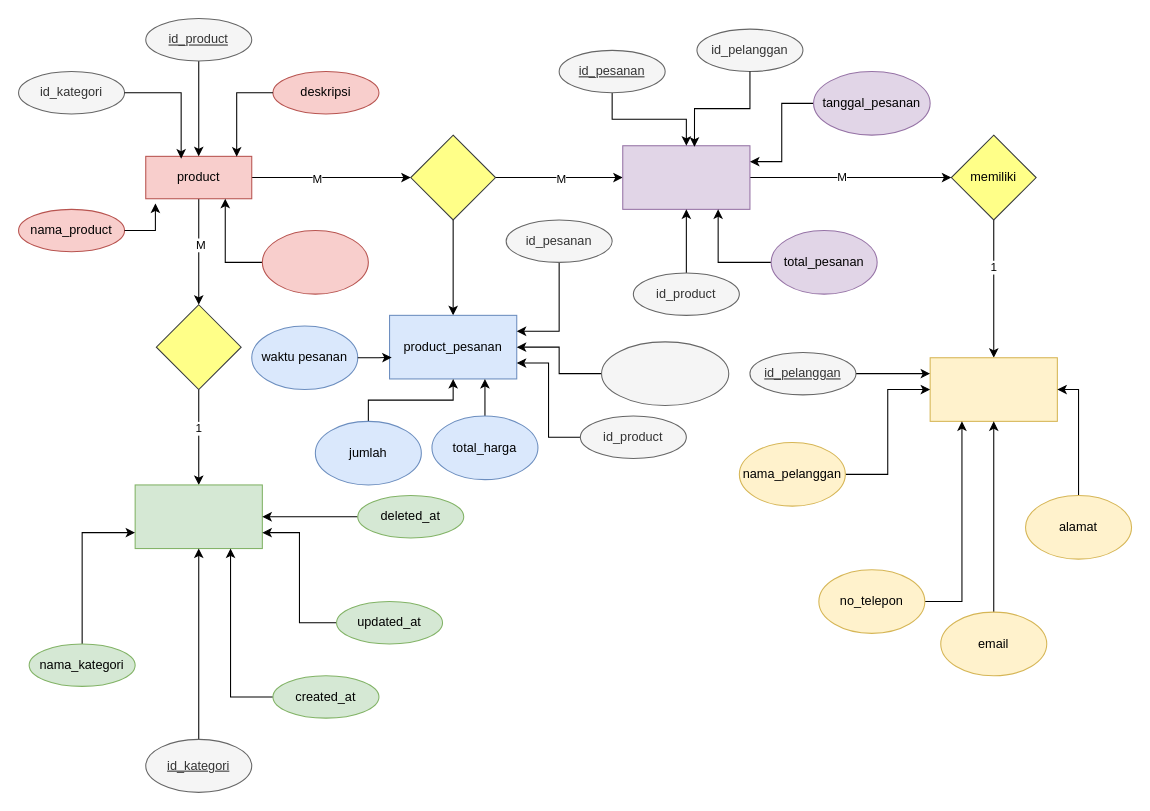
This 1150x811 diagram has some shape labels left out. The centre of each missing label's shape, as x and y in pixels:
Dibeli: (453,177)
harga_product: (314,261)
id_product_pesanan: (664,373)
kategori: (198,516)
pelanggan: (993,389)
pesanan: (686,177)
Termasuk: (198,347)
